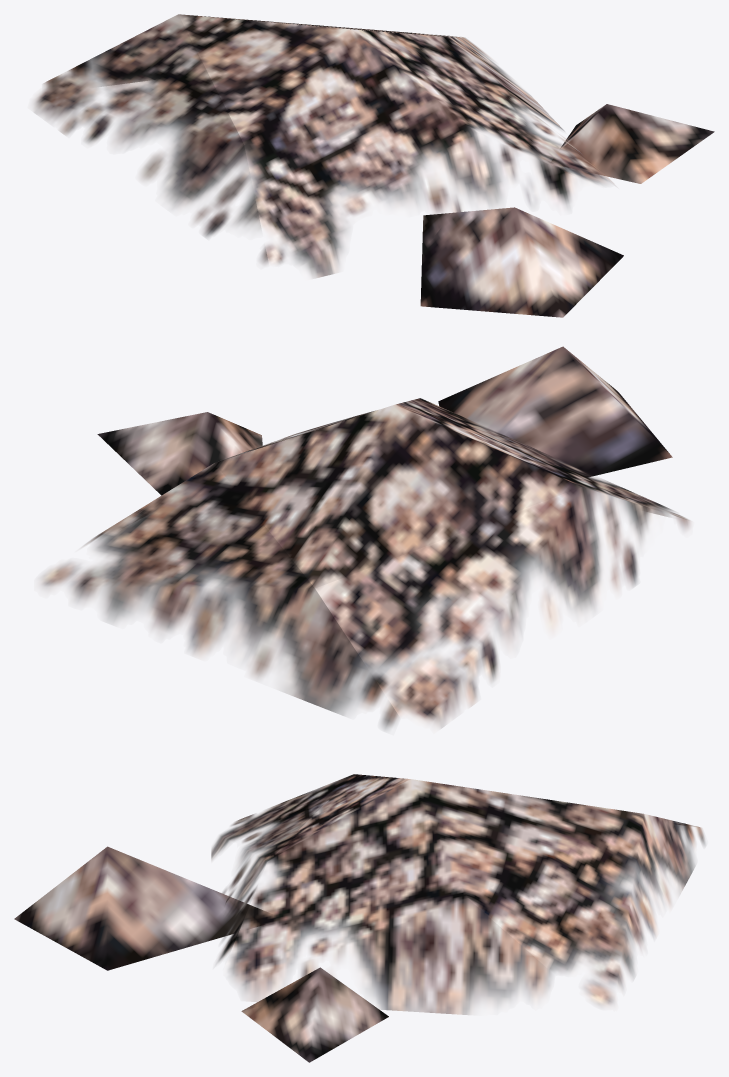
File: Environment - Prop - Con Sup 07 - PMConSup07.glb
3 views of the same model, one above another, from view 1: azimuth 30°, elevation 25°; view 2: azimuth 150°, elevation 25°; view 3: azimuth 270°, elevation 25° (orthographic). The views are drawn at different scales.
Parts seen in each view (by area): view 1: PMCONSUP07; view 2: PMCONSUP07; view 3: PMCONSUP07.
Part boxes in pixels (x1=…): PMCONSUP07: x1=33, y1=14, x2=714, y2=317; PMCONSUP07: x1=40, y1=346, x2=691, y2=728; PMCONSUP07: x1=14, y1=774, x2=704, y2=1062.
Bounding box in the file's own units: 27.53 × 7.52 × 35.13.
Materials: 1 (1 with a texture image).
